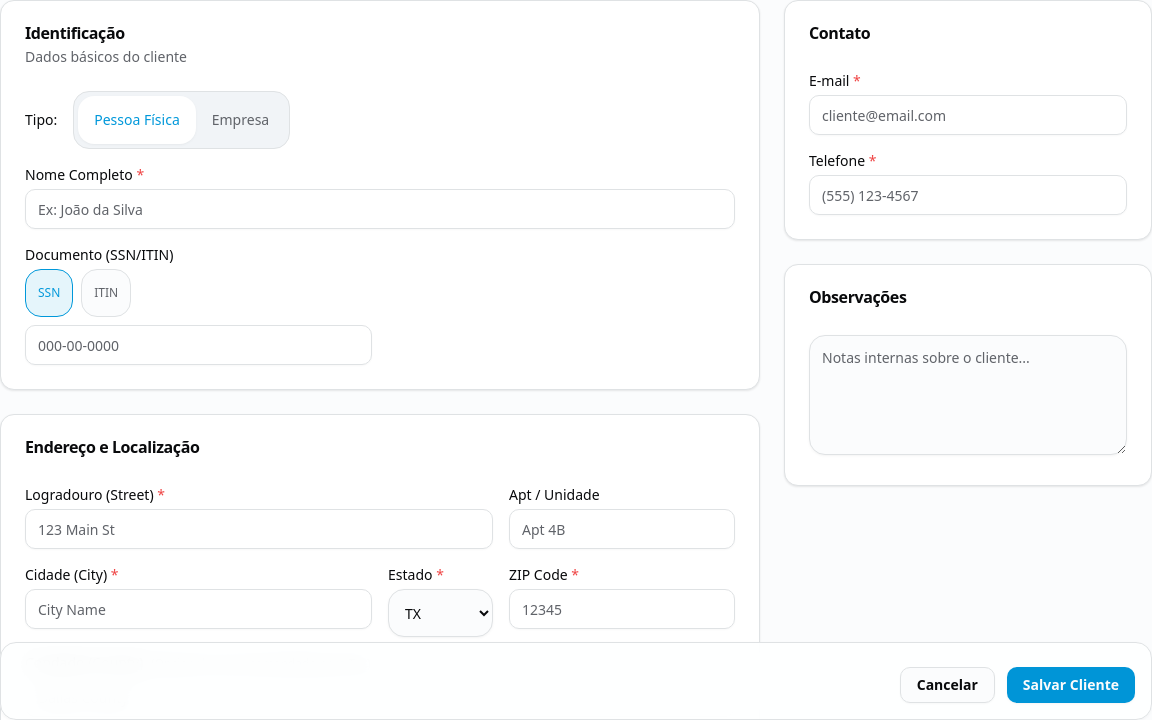
Test: ClienteForm › PF Validation › shows error for invalid ITIN format
Click the button "ITIN" at (106, 293), box [81, 269, 131, 317]
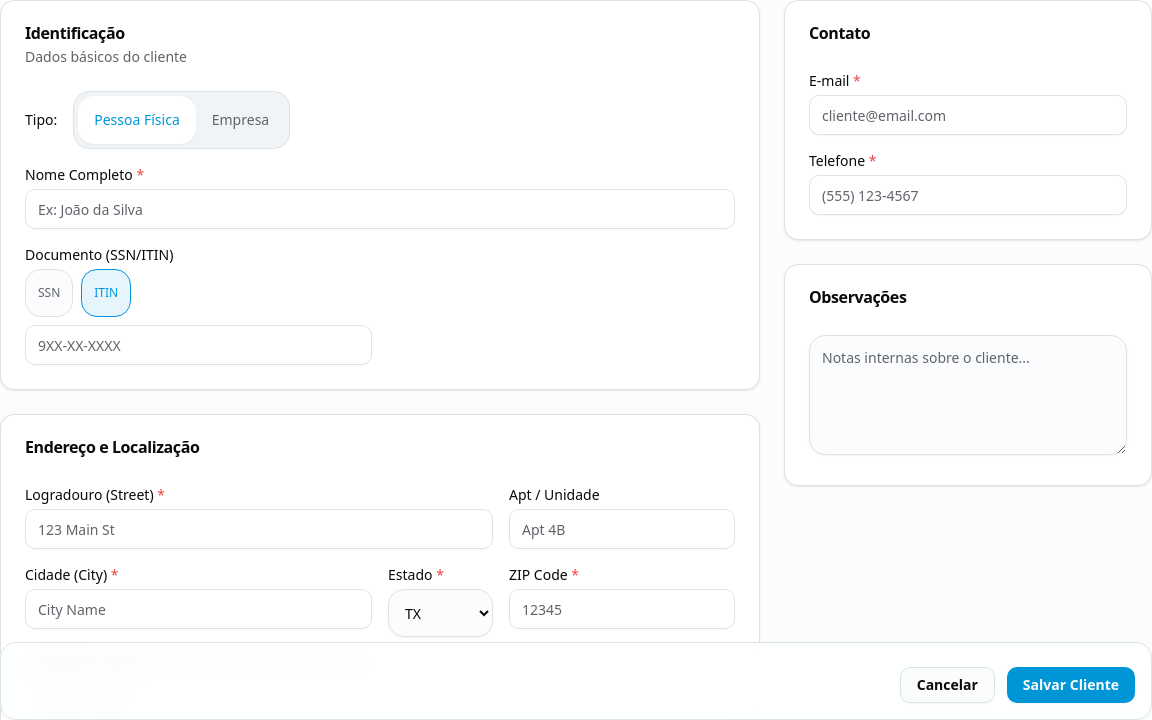
Type "123-45-6789" into the field with test id "cliente-form-itin" at (198, 345), box [25, 325, 372, 365]
(page scrolled)
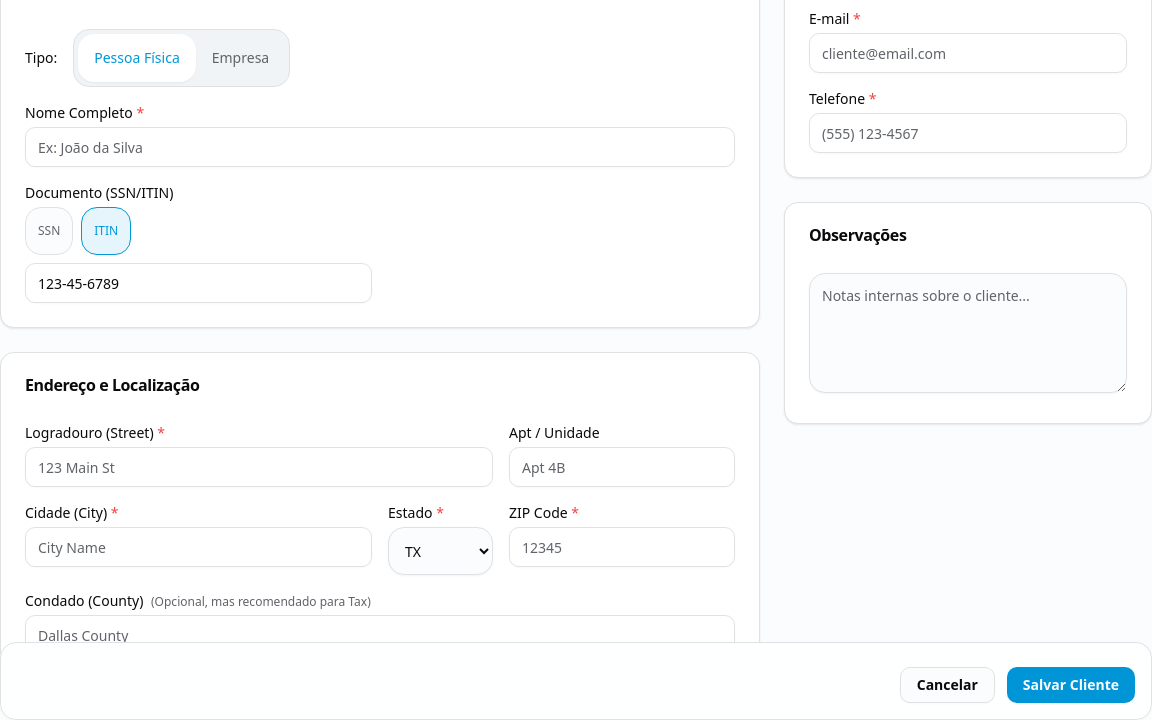
Submit the form named "salvar"
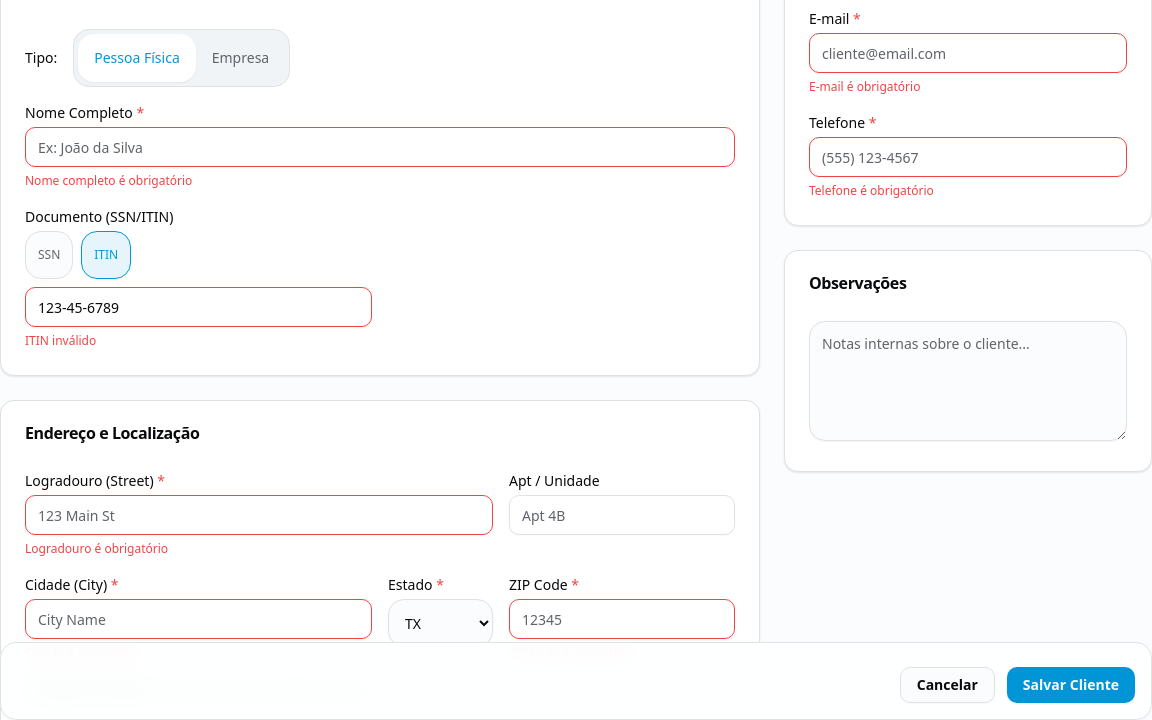
Expected: the text "ITIN inválido" is shown, [25, 332, 96, 349]
